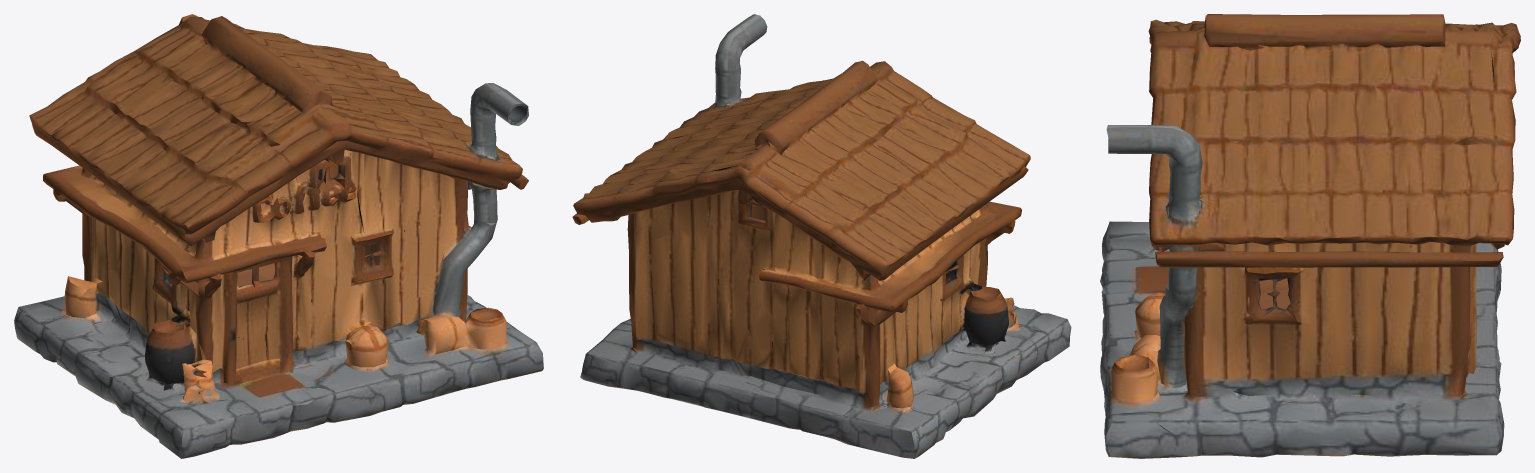
Rendered from roaster-tier-1.glb.
The picture shows the model from 3 angles, left to right: view 1: azimuth 30°, elevation 25°; view 2: azimuth 150°, elevation 25°; view 3: azimuth 270°, elevation 25°; orthographic projection. The views are drawn at different scales.
Parts seen in each view (by area): view 1: building; view 2: building; view 3: building.
Part boxes in pixels (<box>): building: <box>14,14,543,458</box>; building: <box>572,14,1071,458</box>; building: <box>1100,14,1520,458</box>.
Size of the model in its own units: 3.3 by 2.49 by 2.8.
Materials: 1 (1 with a texture image).
